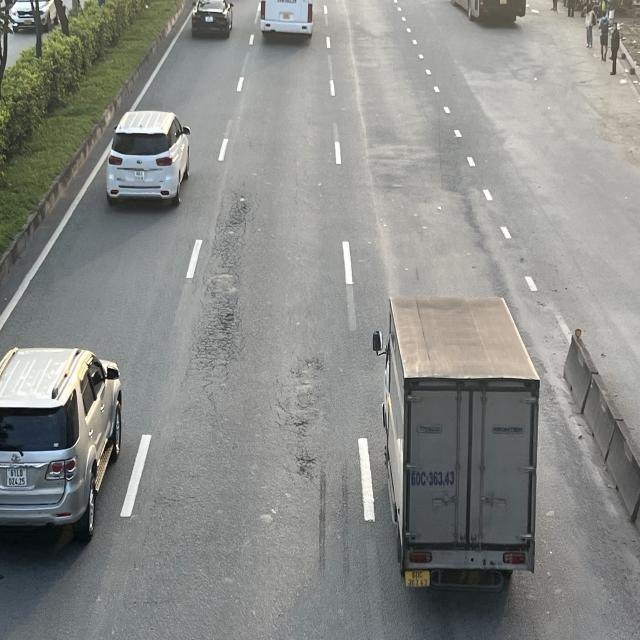car: (0, 345, 122, 539), (106, 110, 190, 206), (191, 0, 235, 38)
coach: (258, 0, 314, 37)
truck: (374, 291, 539, 589)
